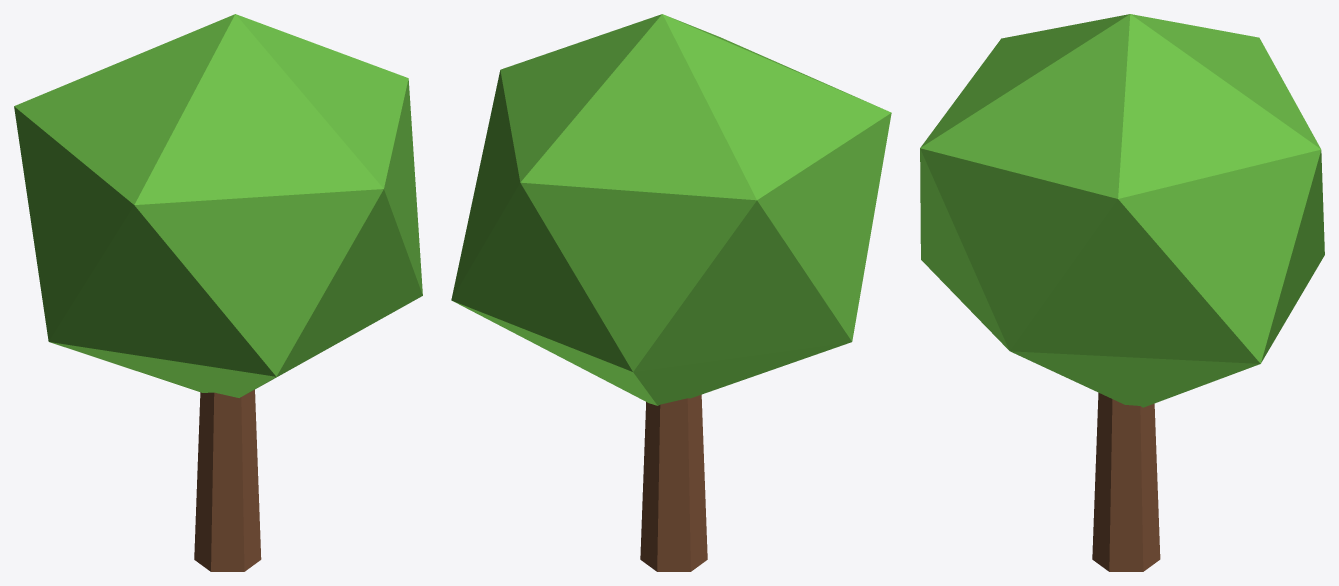
The model's file is tree_round_2.glb.
3 renders of one model, left to right at view 1: azimuth 30°, elevation 25°; view 2: azimuth 150°, elevation 25°; view 3: azimuth 270°, elevation 25°, orthographic.
Parts seen in each view (by area): view 1: tree_round_2; view 2: tree_round_2; view 3: tree_round_2.
Part boxes in pixels (left/top/right/bottom): tree_round_2: left=14, top=14, right=422, bottom=571; tree_round_2: left=451, top=14, right=891, bottom=571; tree_round_2: left=920, top=14, right=1324, bottom=571.
Bounding box in the file's own units: 2.2 × 3.21 × 2.14.
